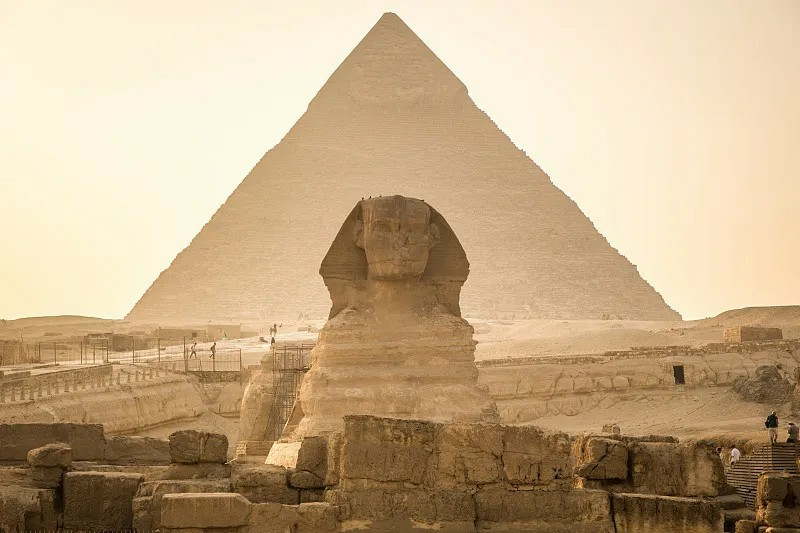Pyramid: (125, 14, 684, 324)
